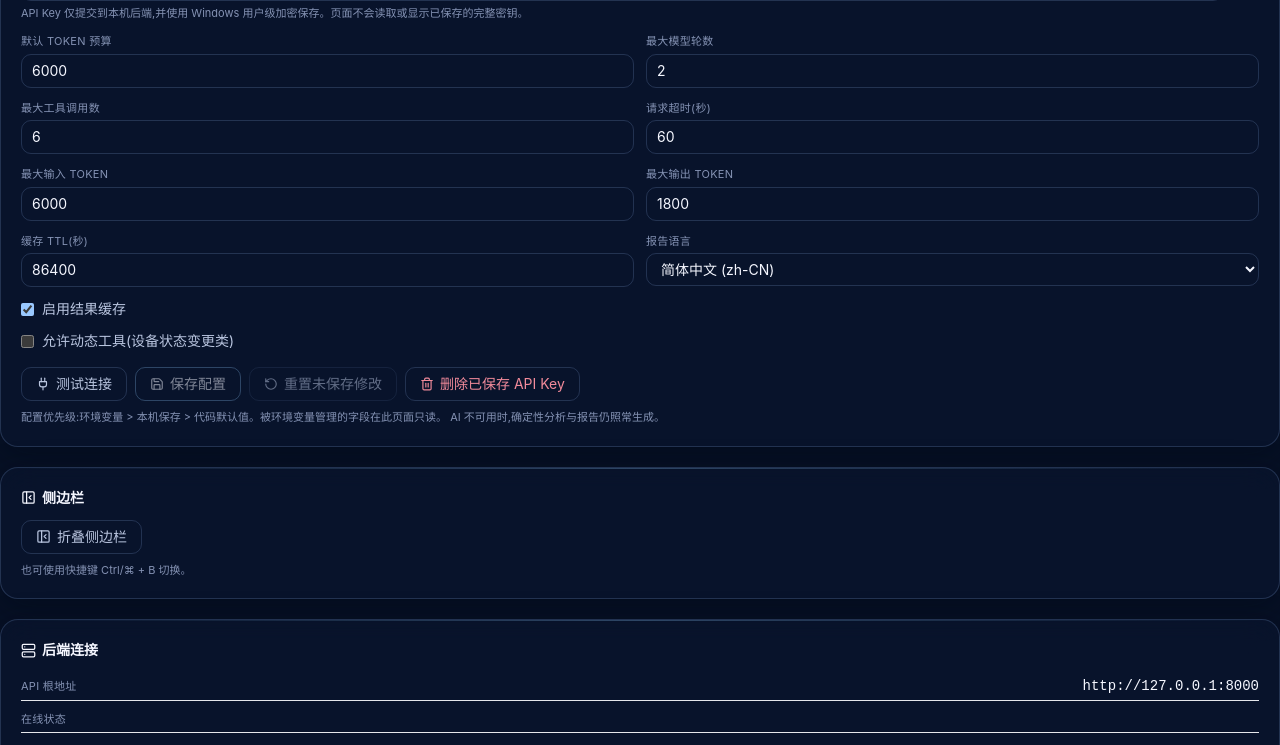
Test: M6B — AI 配置表单 › 测试连接状态 invalid_configuration 有中文友好提示
This screenshot has width=1280, height=745.
(page scrolled)
Click the button with test id "ai-settings-test" at coordinates (74, 384), box top-left (21, 367), bottom-right (127, 401)
(page scrolled)
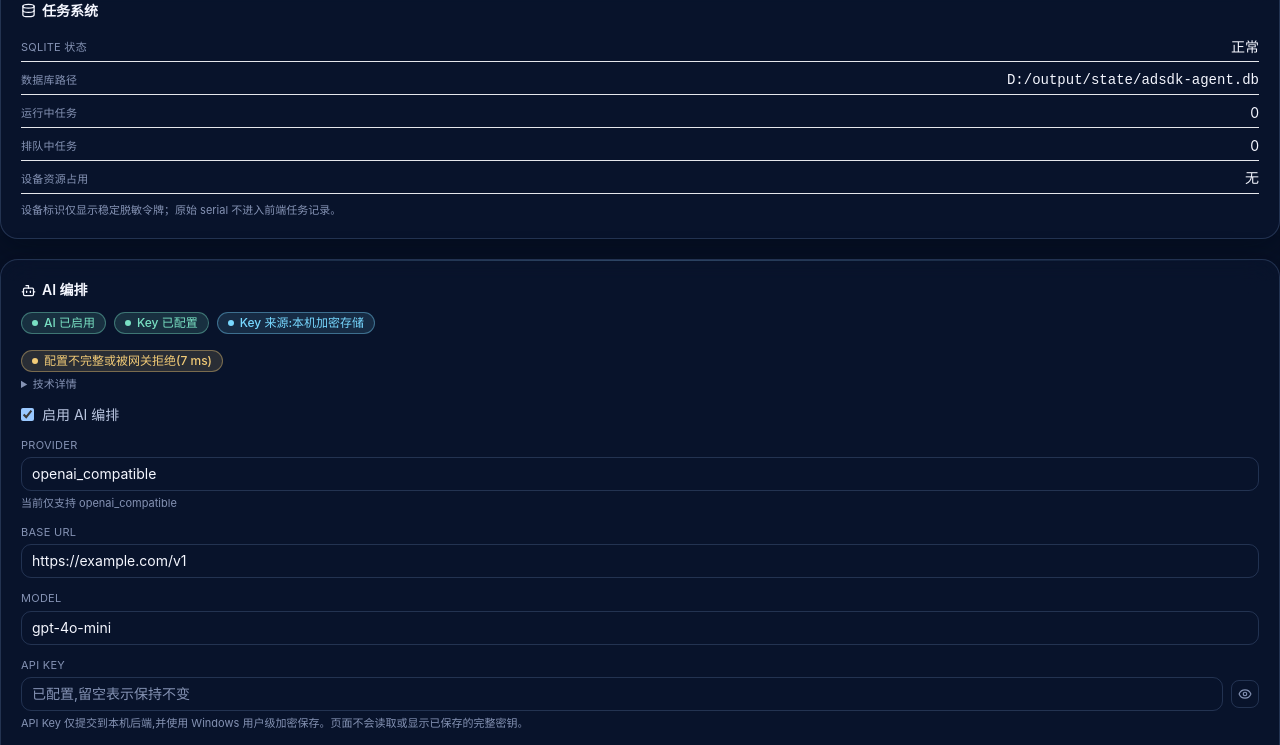
Expected: the text "配置不完整或被网关拒绝(7 ms)" is shown, top-left (21, 350), bottom-right (223, 372)
Expected: the heading "技术详情" is shown, top-left (33, 377), bottom-right (77, 391)
